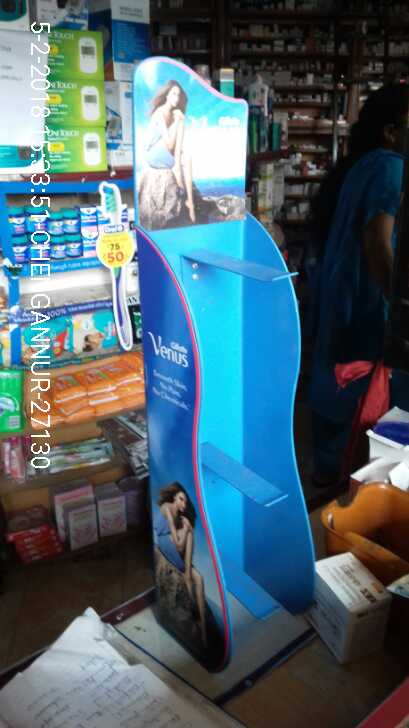pharmacy: (70, 305, 122, 348), (21, 314, 76, 350), (8, 206, 53, 230), (78, 208, 95, 250), (48, 239, 65, 267), (50, 210, 70, 233), (65, 211, 82, 235), (68, 235, 82, 257)
